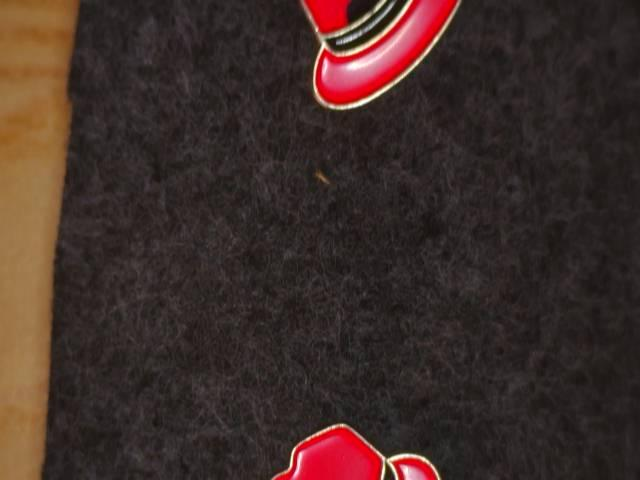Red-Hat: (281, 0, 491, 124), (248, 410, 470, 480)
Scratch: (341, 0, 391, 34)
